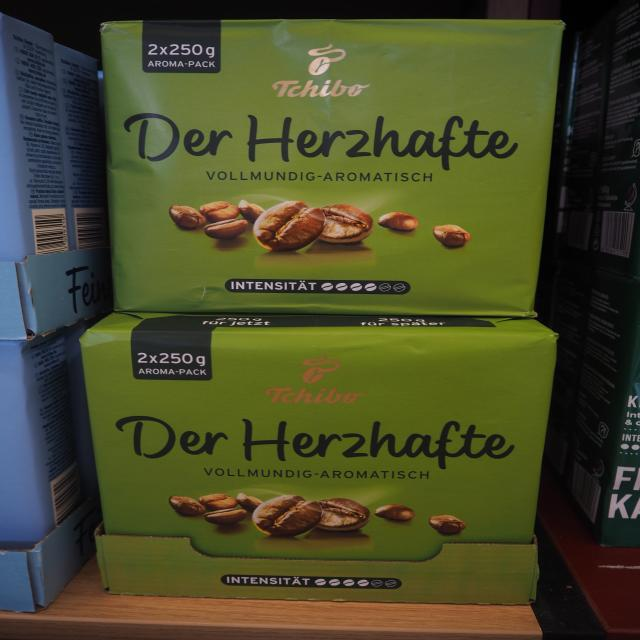Herzhatfe Mundig: (72, 308, 568, 610), (89, 16, 570, 322)
